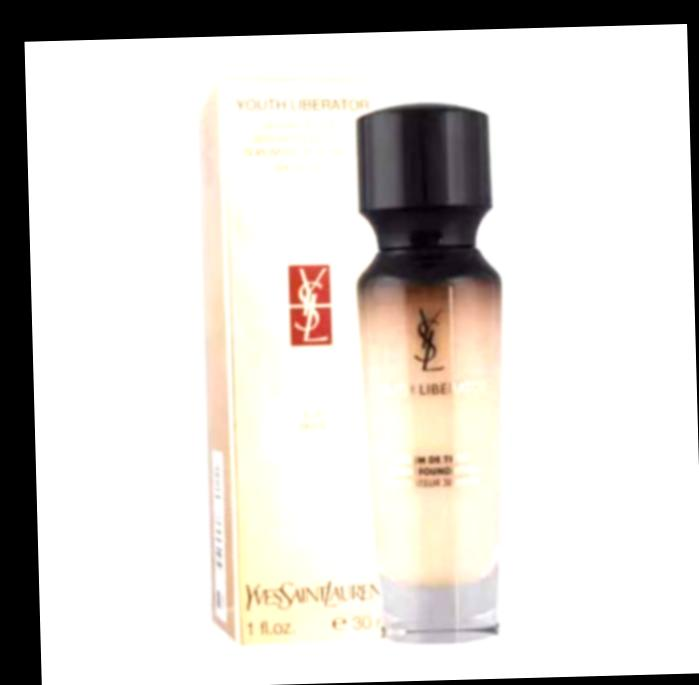cosmetic: (350, 110, 512, 645)
